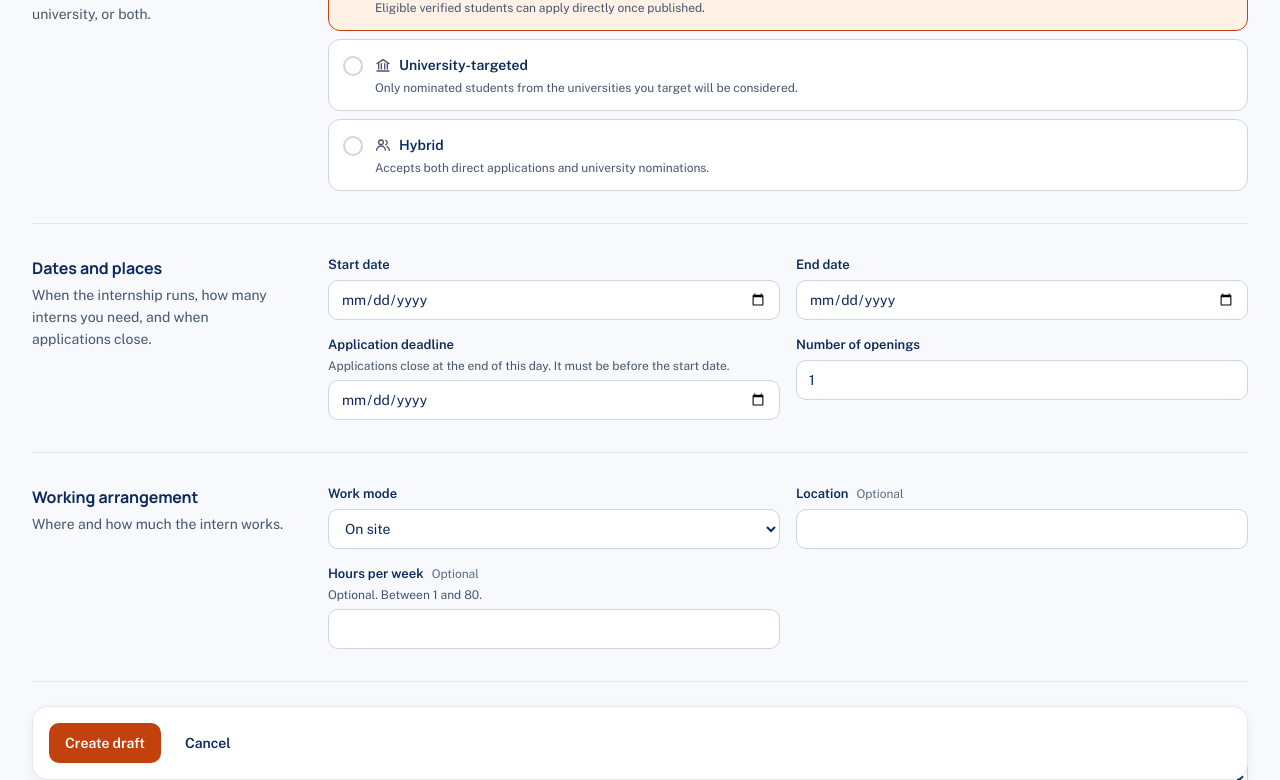
Scenario: CreateOpportunityPage › rejects fewer than one opening
This screenshot has width=1280, height=780.
(page scrolled)
Replace the text in the number field labelled "Number of openings" with "0" at (1022, 380), box [796,360,1248,400]
(page scrolled)
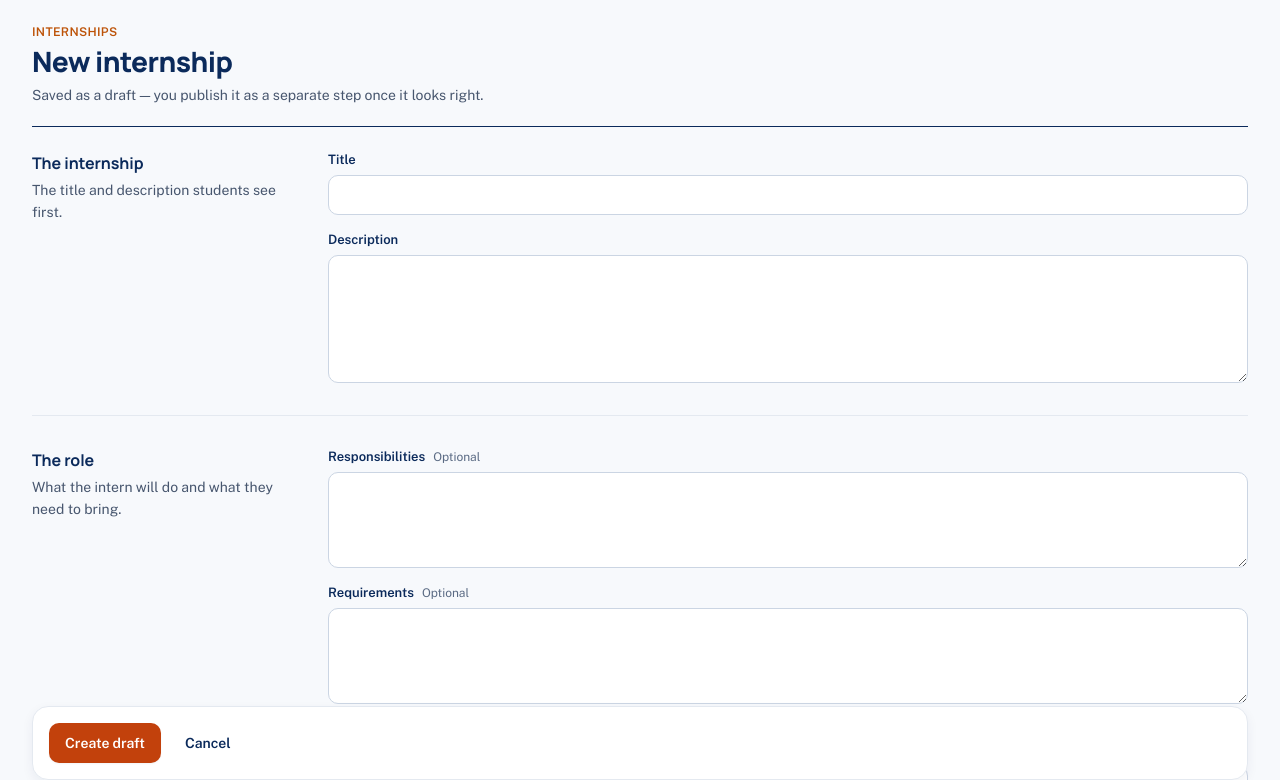
Type "Backend Intern" into the field labelled "Title" at (788, 195), box [328,175,1248,215]
Type "Work on the API." into the text box labelled "Description" at (788, 319), box [328,255,1248,383]
(page scrolled)
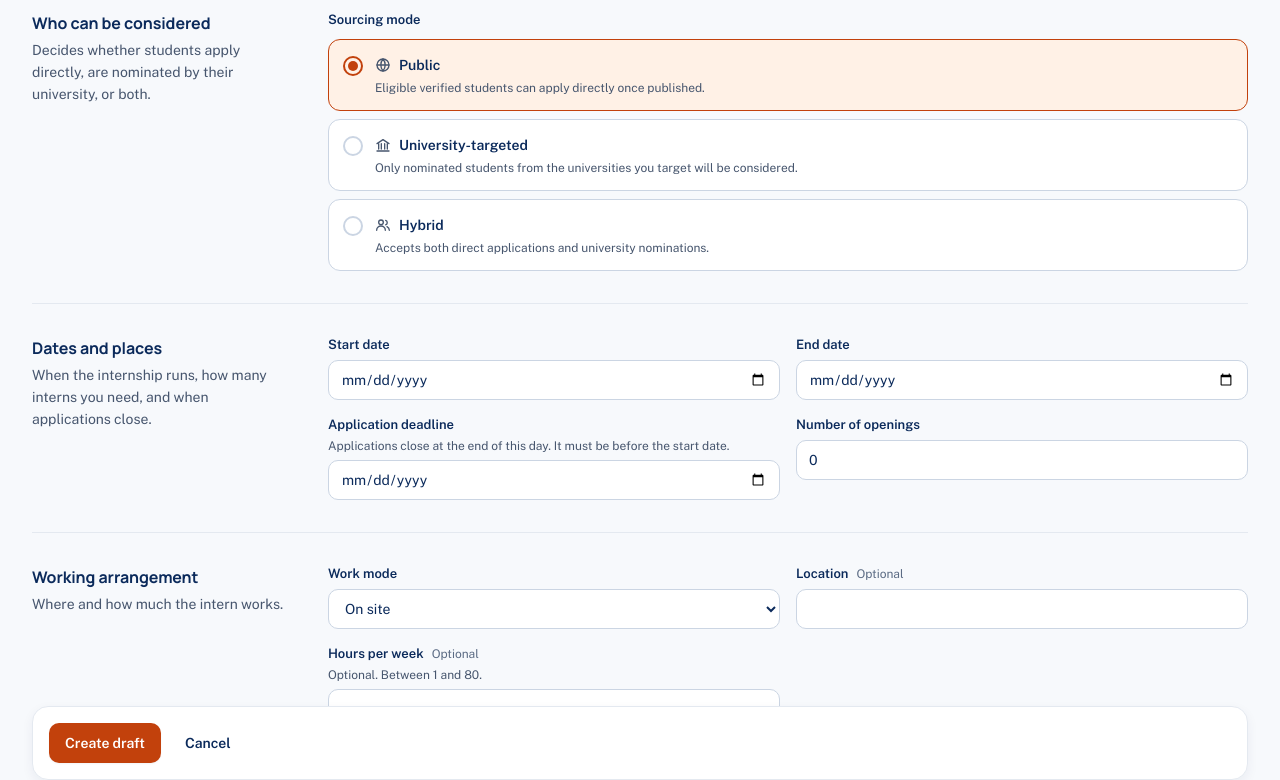
Type "2027-03-01" into the date field labelled "Start date" at (554, 380), box [328,360,780,400]
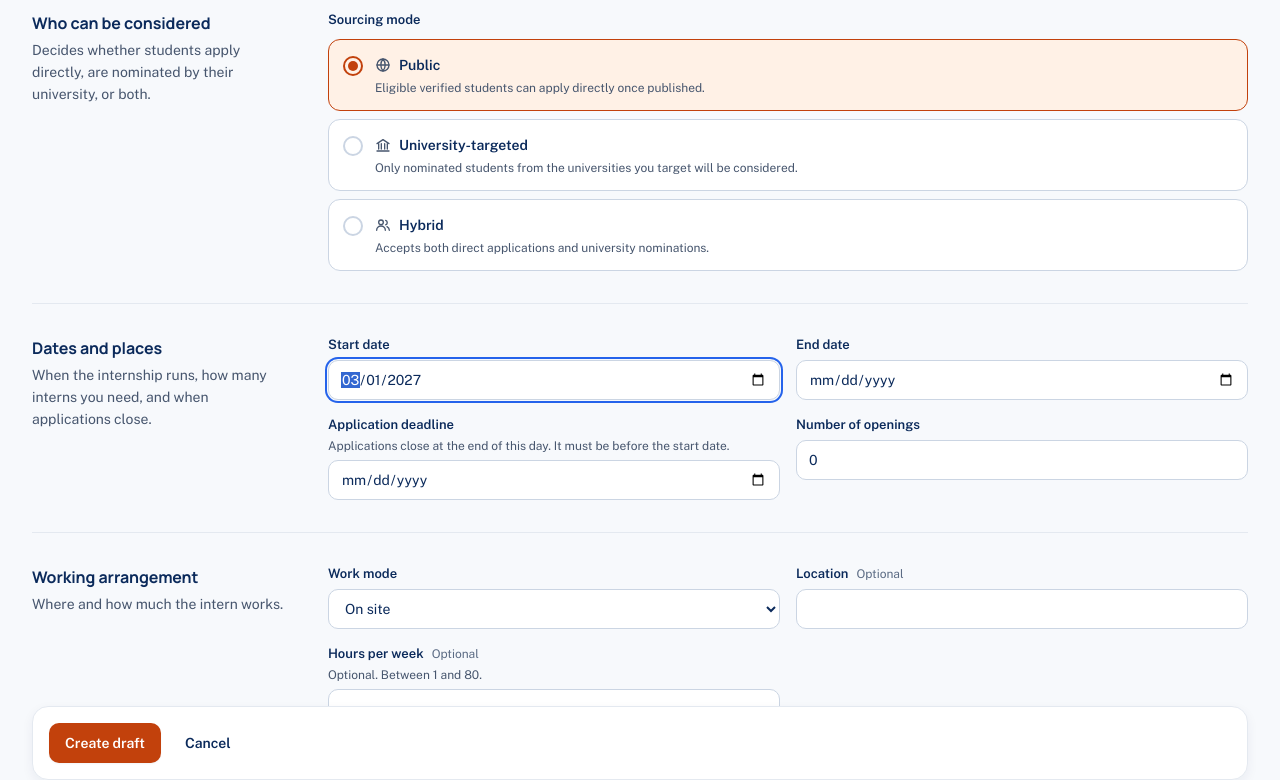
Type "2027-06-01" into the date field labelled "End date" at (1022, 380), box [796,360,1248,400]
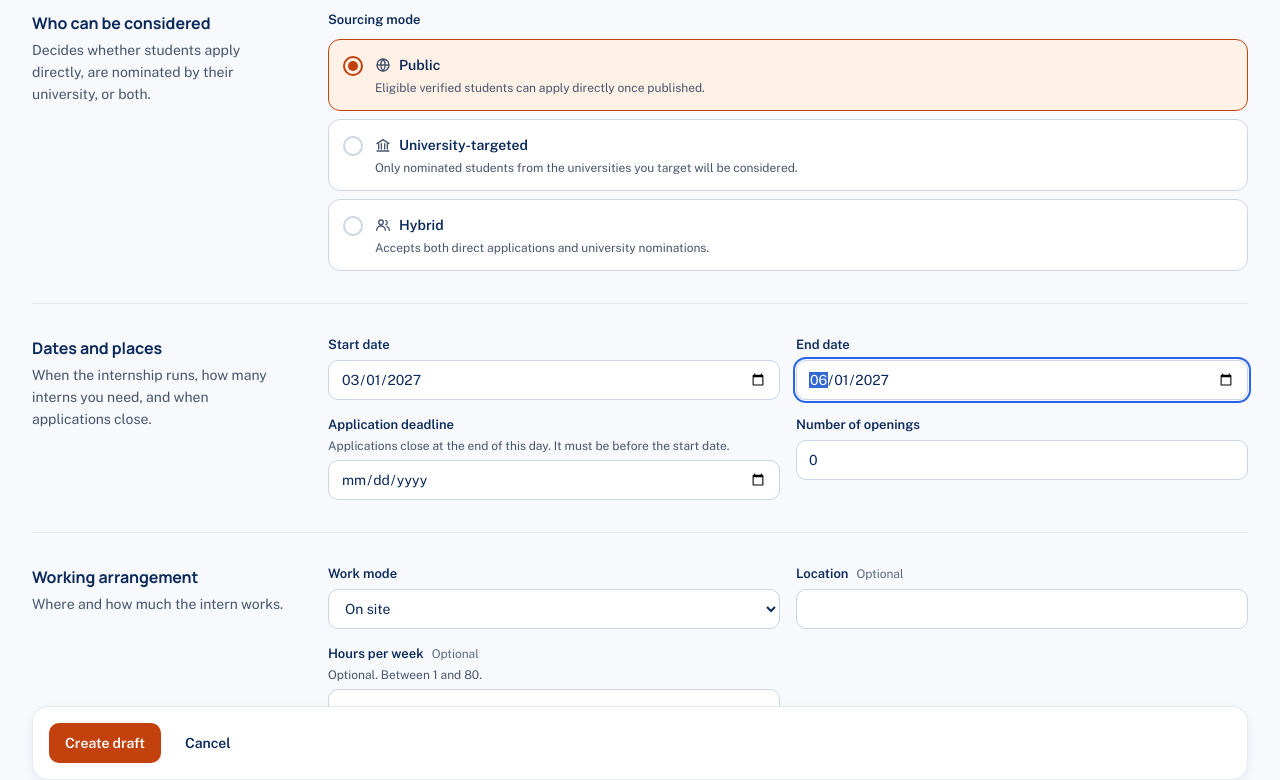
Type "2027-02-01" into the date field labelled "Application deadline" at (554, 480), box [328,460,780,500]
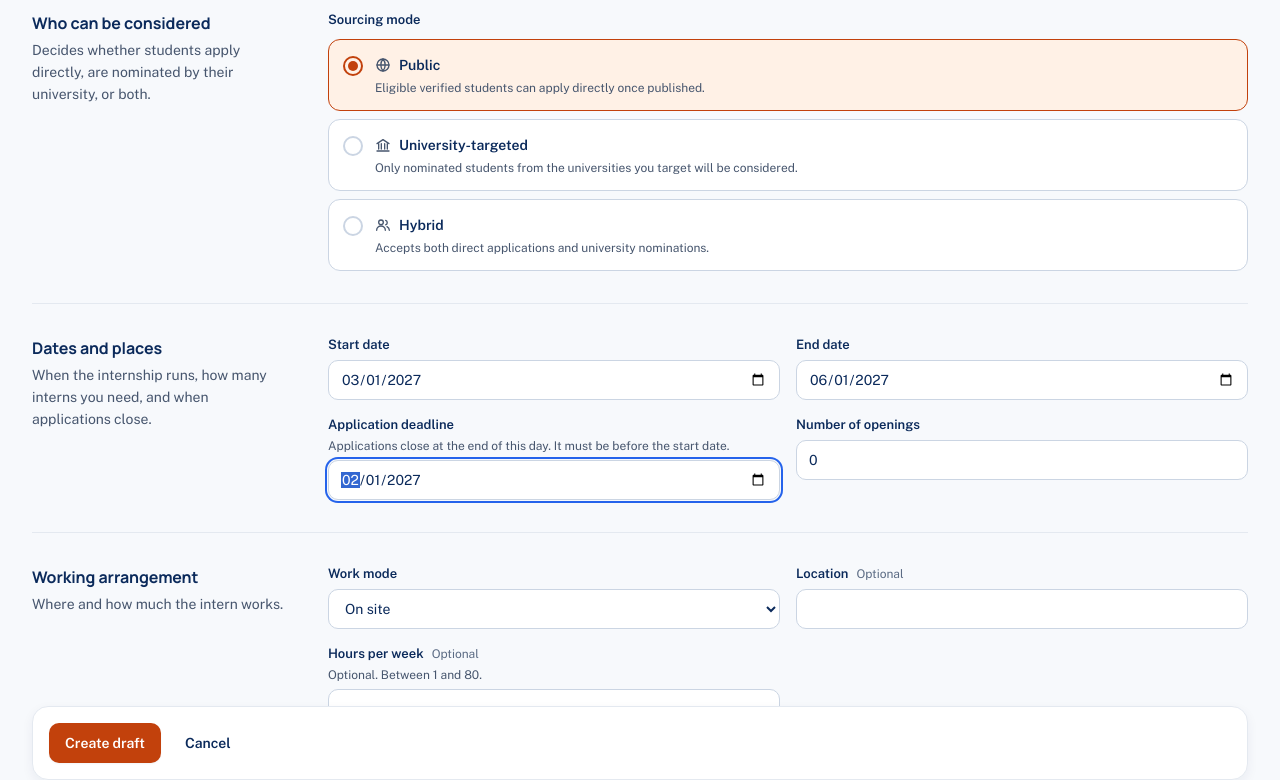
Click the button "Create draft" at (105, 743), box [49,723,161,763]
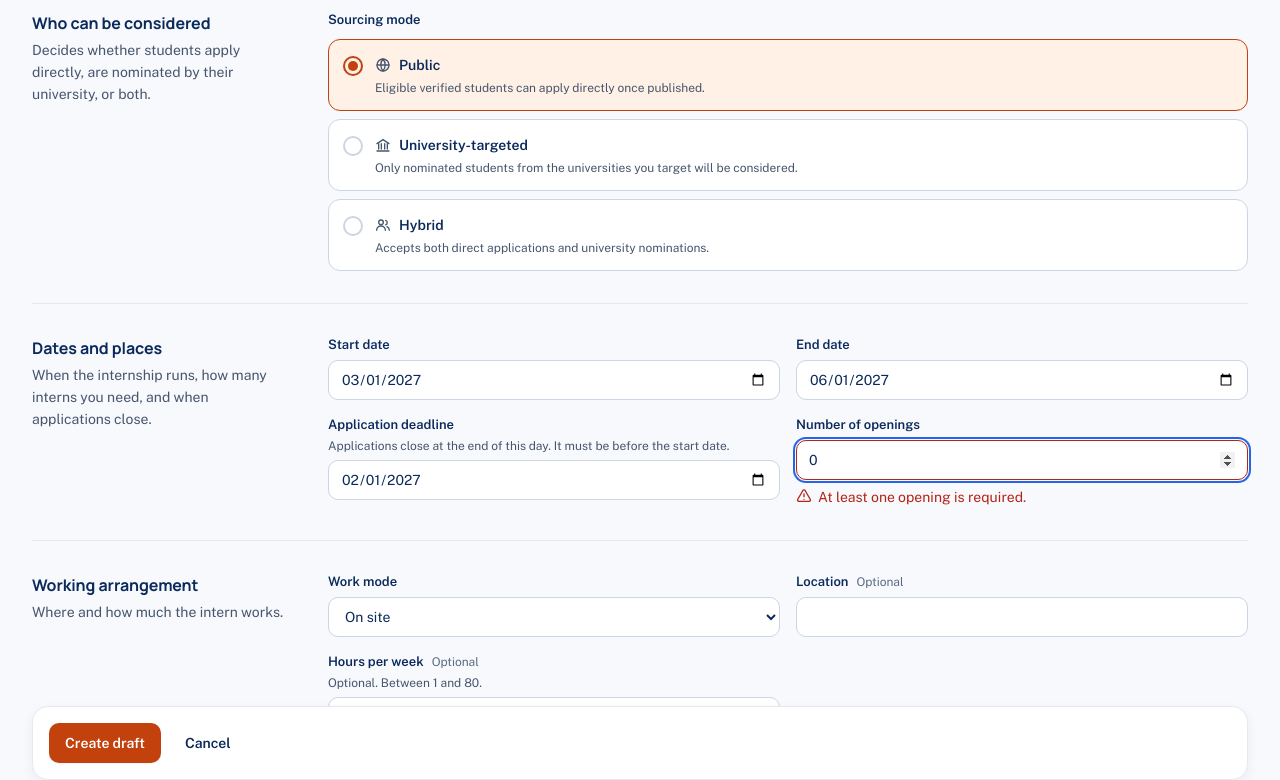
Expected: the text "At least one opening is required." is shown, [796,488,1026,505]
